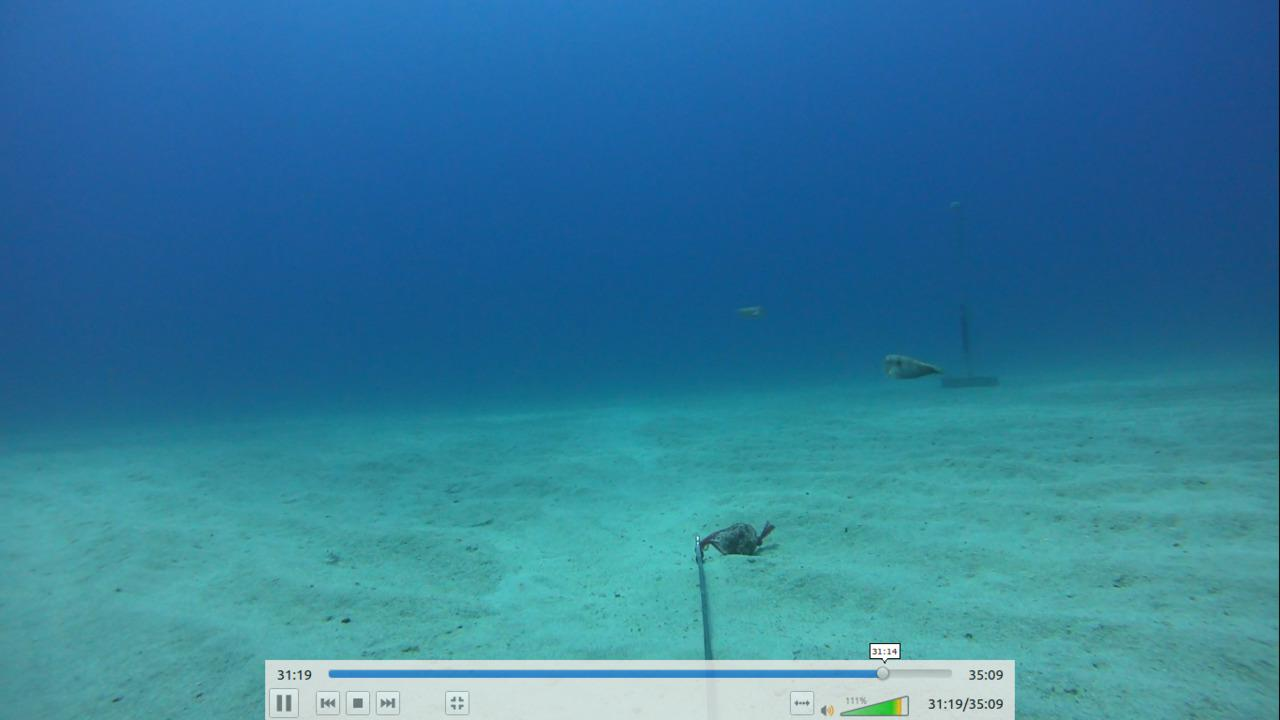raor: (876, 342, 949, 389)
